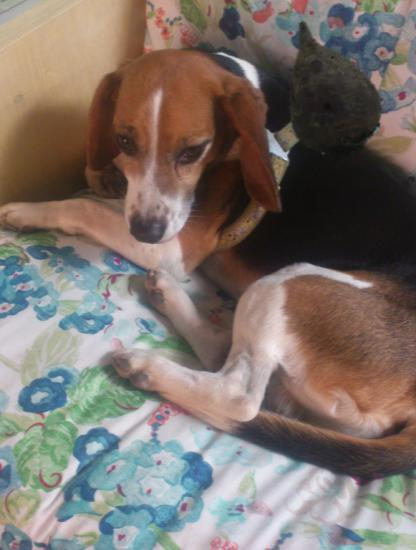Beetroot: (254, 18, 399, 163)
